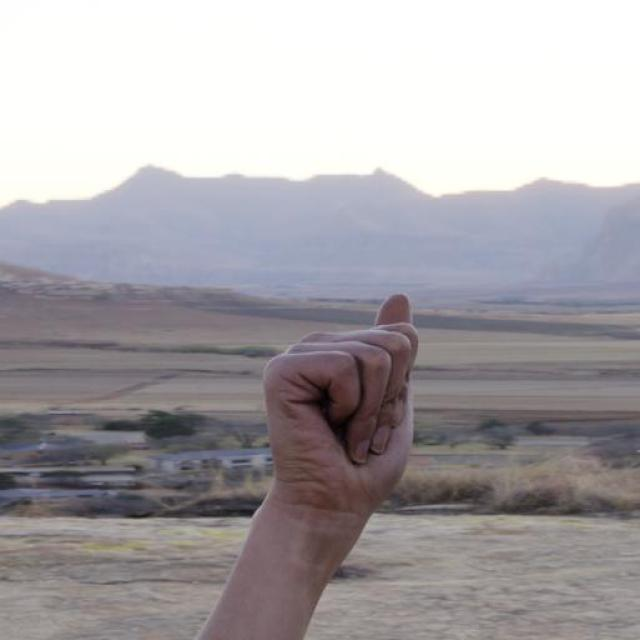A: (259, 292, 423, 518)
